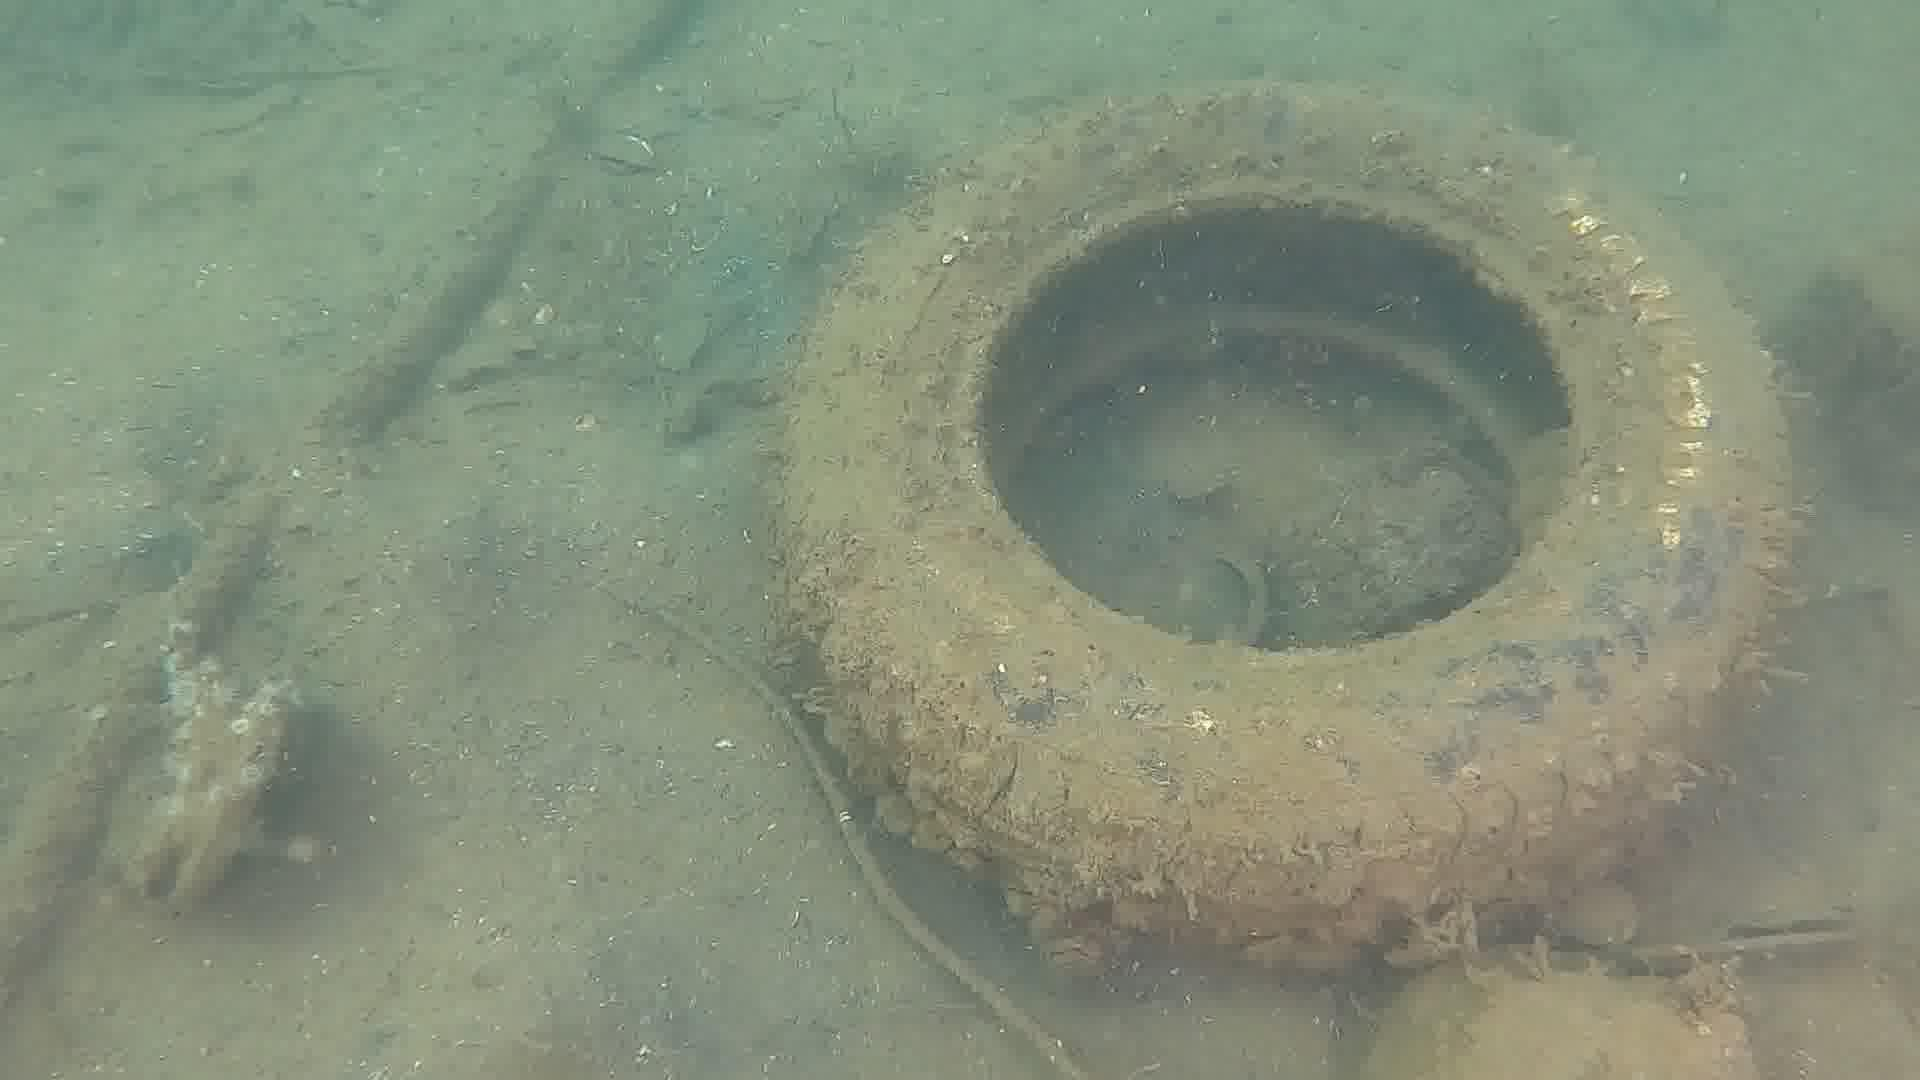tire: (767, 73, 1797, 959)
